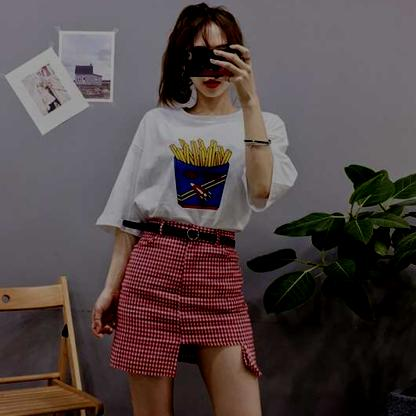dress: (97, 102, 296, 241)
jacket: (114, 218, 258, 385)
